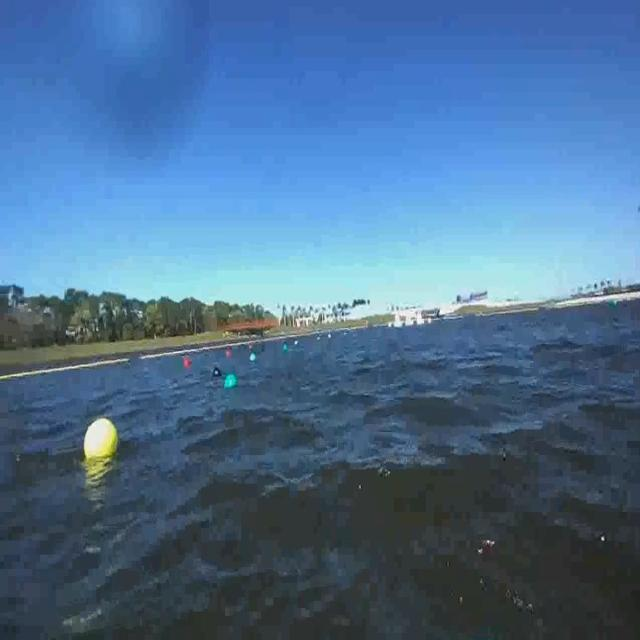black-buoy: (209, 364, 223, 382)
green-buoy: (224, 374, 237, 391)
red-buoy: (185, 357, 192, 370), (183, 356, 190, 368)
yellow-buoy: (84, 418, 120, 460)
